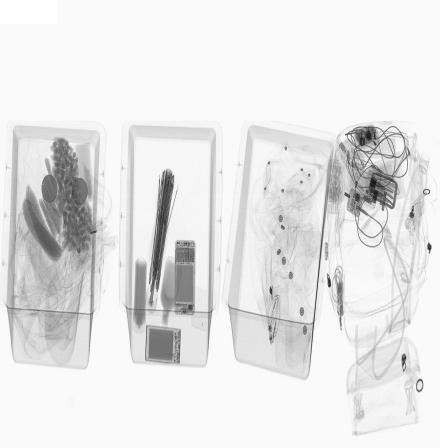Powerbank: (144, 324, 181, 366)
